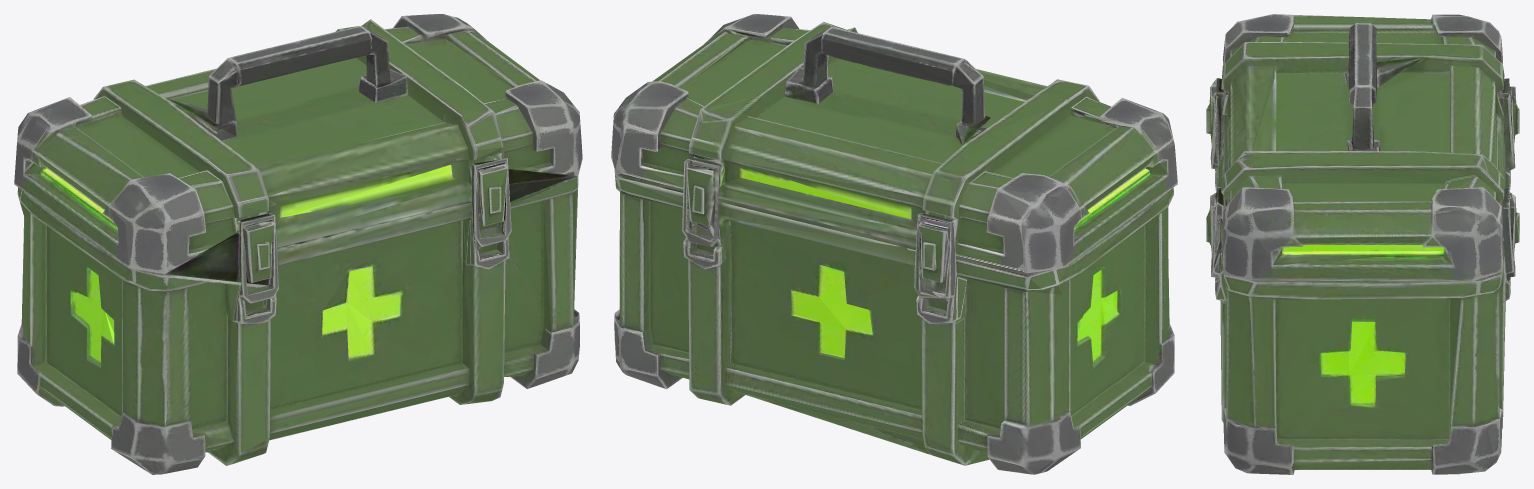
The model's file is supply_crate.glb.
3 views of the same model, side by side, from view 1: azimuth 30°, elevation 25°; view 2: azimuth 150°, elevation 25°; view 3: azimuth 270°, elevation 25° (orthographic). The views are drawn at different scales.
Parts seen in each view (by area): view 1: Mesh_0; view 2: Mesh_0; view 3: Mesh_0.
Part boxes in pixels (x1,y1,x2,y2): Mesh_0: (14,14,582,474); Mesh_0: (611,14,1177,474); Mesh_0: (1206,14,1519,474).
Bounding box in the file's own units: 1.9 × 1.37 × 1.18.
1 material, 1 textured.
